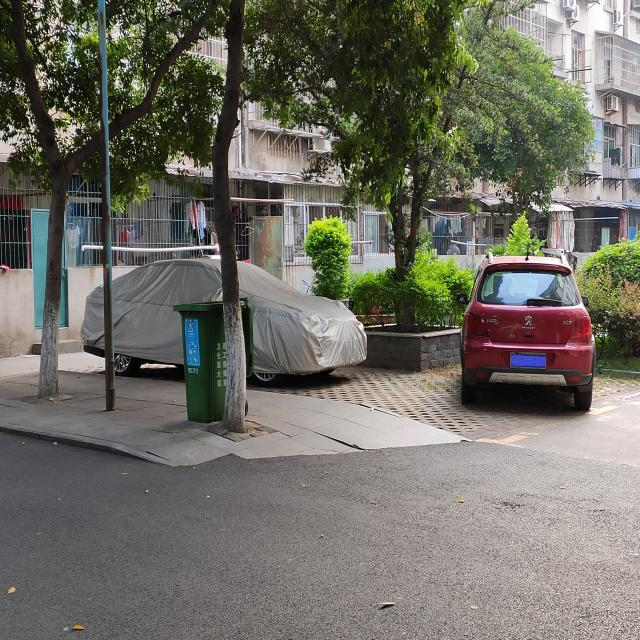ash bin: (174, 297, 254, 422)
car: (81, 258, 369, 386), (456, 247, 596, 413)
pole: (95, 89, 120, 408)
